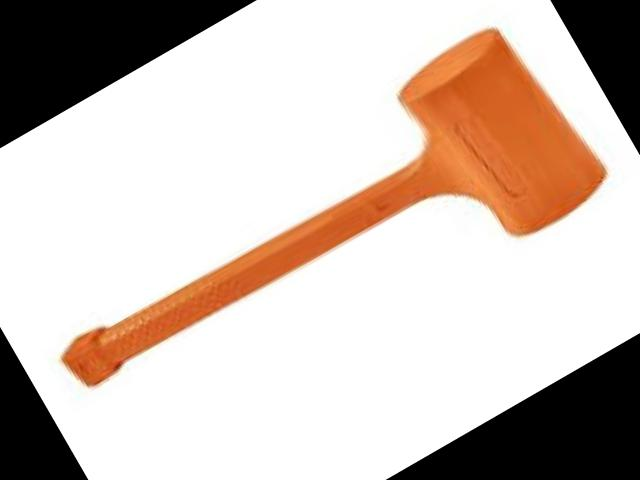hammer: (25, 7, 622, 470)
